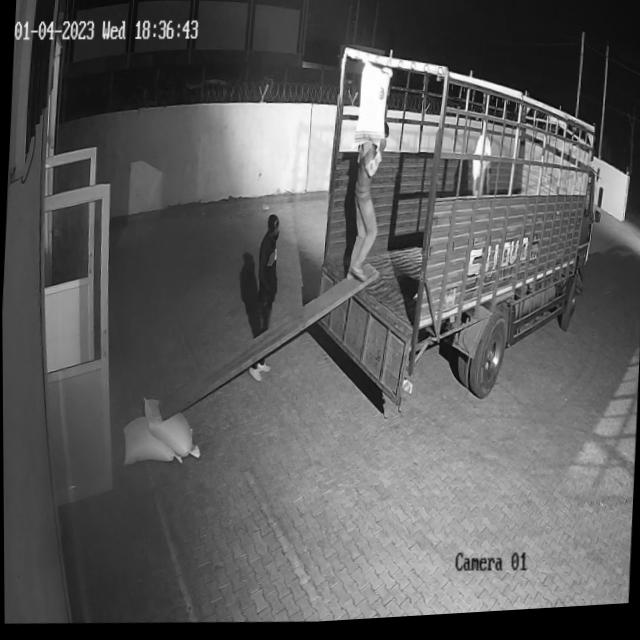sack: (138, 394, 202, 463), (353, 64, 394, 152), (121, 416, 184, 470)
